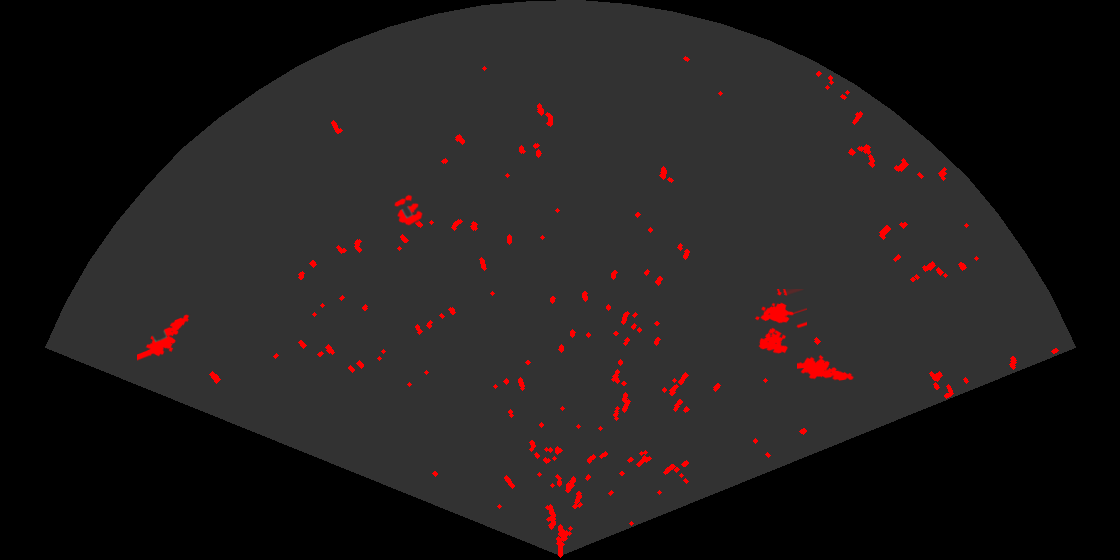ball: (393, 193, 424, 227)
cage: (753, 289, 807, 355)
frogman: (137, 313, 191, 362), (797, 353, 855, 382)
